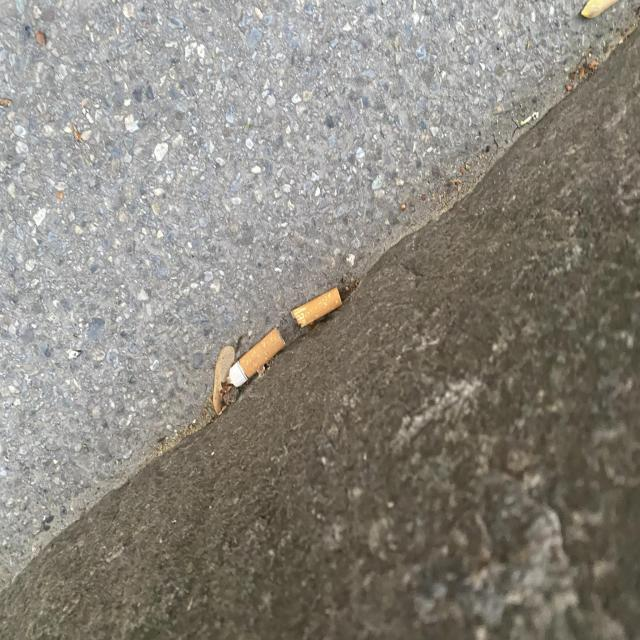other waste: (228, 327, 286, 387), (290, 286, 342, 328)
